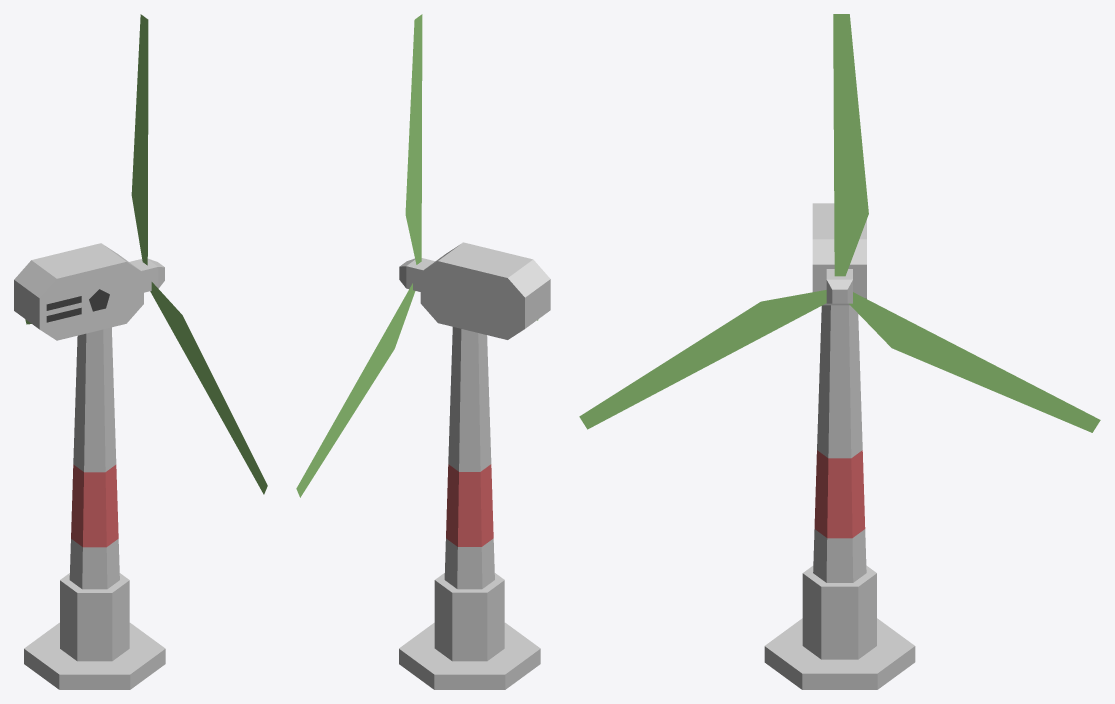
Rendered from wind_turbine_1.fbx.
3 renders of one model, left to right at view 1: azimuth 30°, elevation 25°; view 2: azimuth 150°, elevation 25°; view 3: azimuth 270°, elevation 25°, orthographic. The views are drawn at different scales.
Parts seen in each view (by area): view 1: Cylinder; view 2: Cylinder; view 3: Cylinder.
Part boxes in pixels (left/top/right/bottom): Cylinder: left=14, top=14, right=267, bottom=689; Cylinder: left=296, top=14, right=550, bottom=689; Cylinder: left=579, top=14, right=1100, bottom=689.
Size of the model in its own units: 266 by 1198 by 840.
